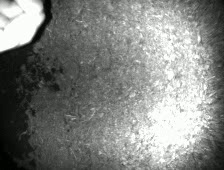corn: (23, 9, 44, 18)
